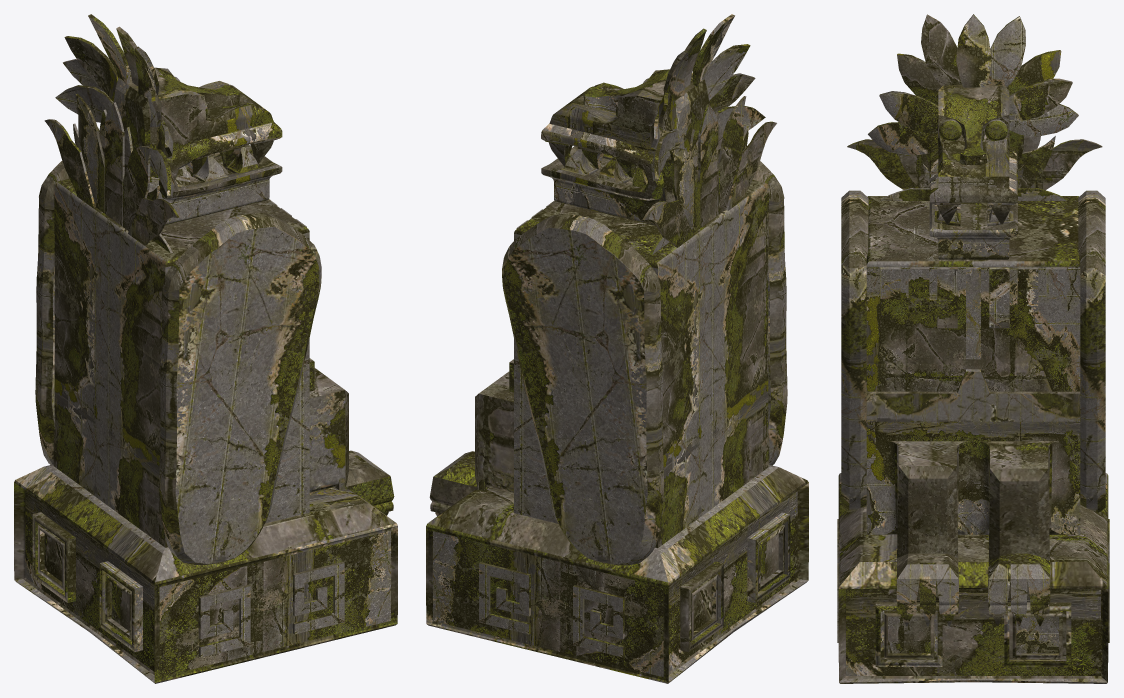
Rendered from tatua.fbx.
The picture shows the model from 3 angles, left to right: view 1: azimuth 30°, elevation 25°; view 2: azimuth 150°, elevation 25°; view 3: azimuth 270°, elevation 25°; orthographic projection. The views are drawn at different scales.
Visible parts, largest first — view 1: group41_pasted__group36_pasted__pasted__group35_pasted__past; view 2: group41_pasted__group36_pasted__pasted__group35_pasted__past; view 3: group41_pasted__group36_pasted__pasted__group35_pasted__past.
Part boxes in pixels (<box>): group41_pasted__group36_pasted__pasted__group35_pasted__past: <box>14,14,397,683</box>; group41_pasted__group36_pasted__pasted__group35_pasted__past: <box>426,14,808,683</box>; group41_pasted__group36_pasted__pasted__group35_pasted__past: <box>837,14,1109,683</box>.
Size of the model in its own units: 2.21 by 4.67 by 2.01.
